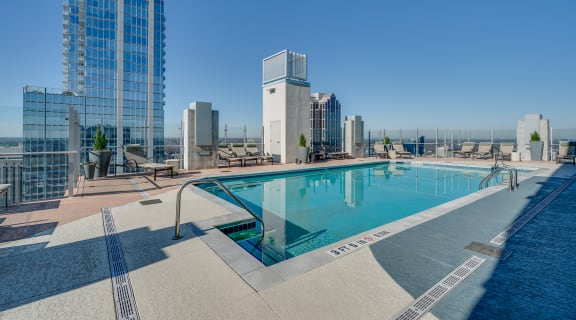Sky Building: (56, 6, 170, 184), (250, 28, 315, 164), (174, 96, 222, 180), (340, 112, 368, 158)
